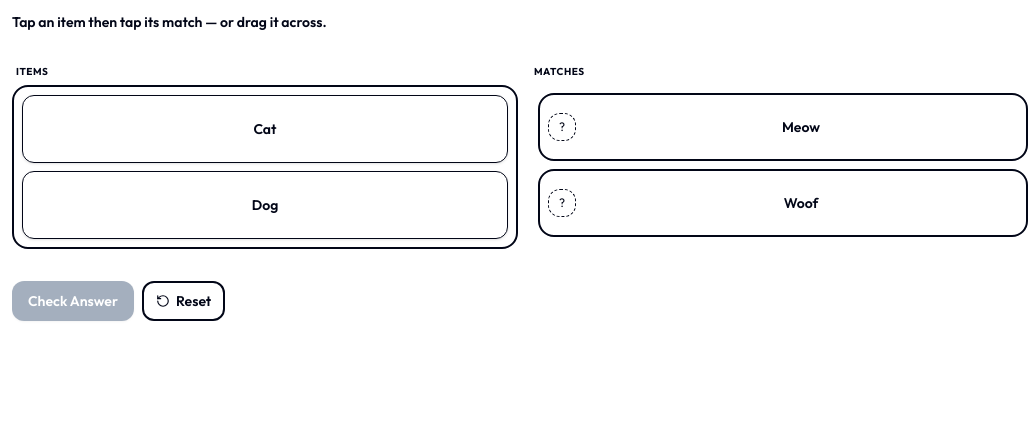
Scenario: MatchPairsViewer feedback › shows per-pair feedback under each match only after checking
expect the text "Cats meow." is not shown: met
Click the button "Cat" at (265, 129), box [22,95,508,163]
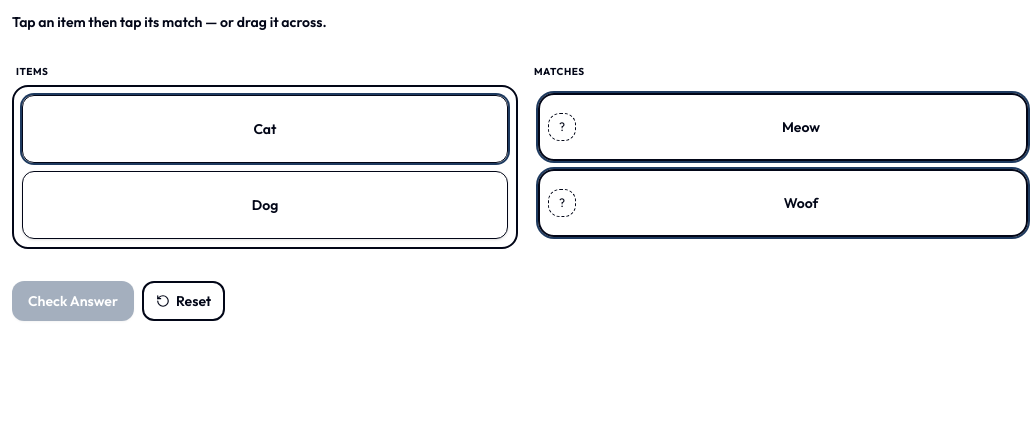
Click the text "Meow" at (801, 127), box [782,117,820,137]
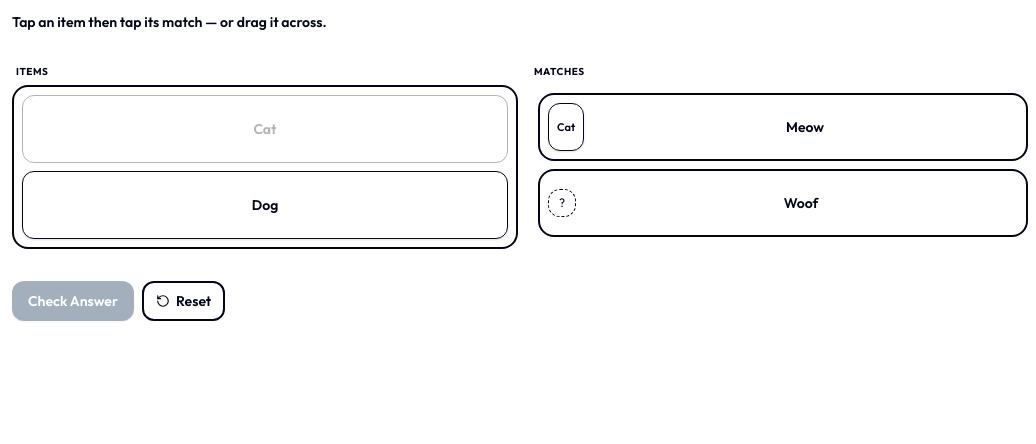
Click the button "Dog" at (265, 205), box [22,171,508,239]
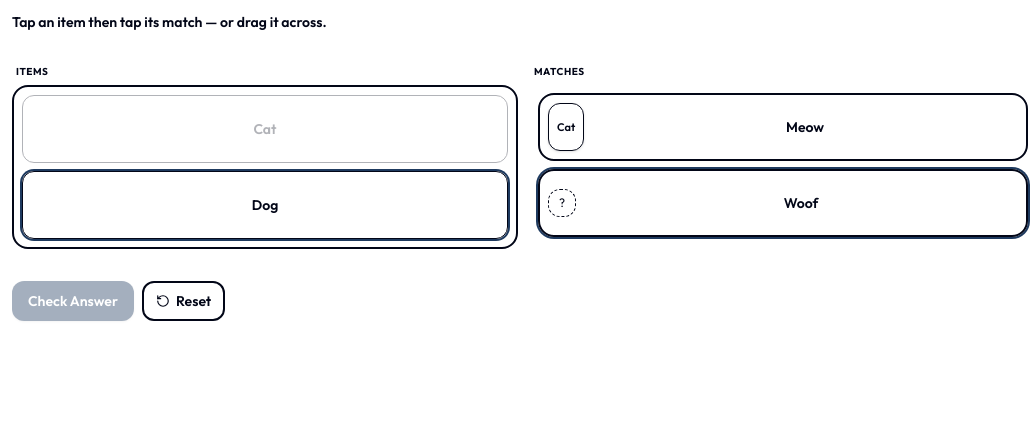
Click the text "Woof" at (801, 203), box [784,193,818,213]
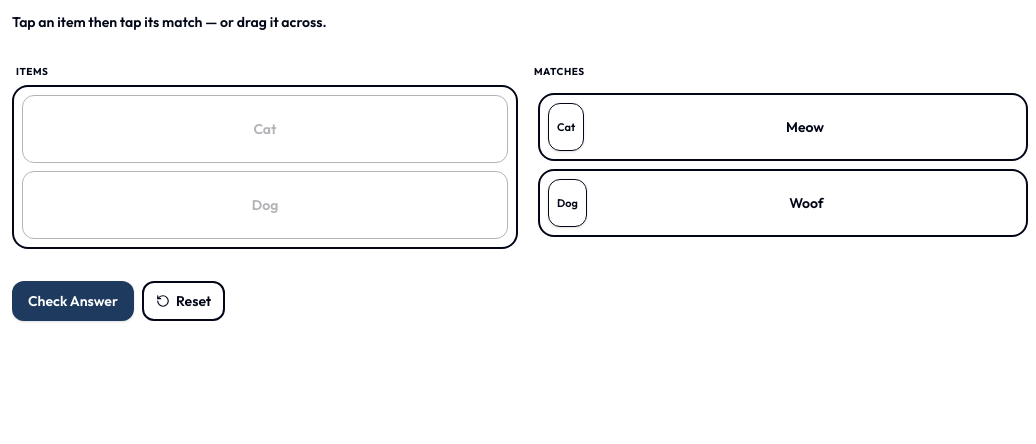
Click the button "Check Answer" at (73, 301), box [12,281,134,321]
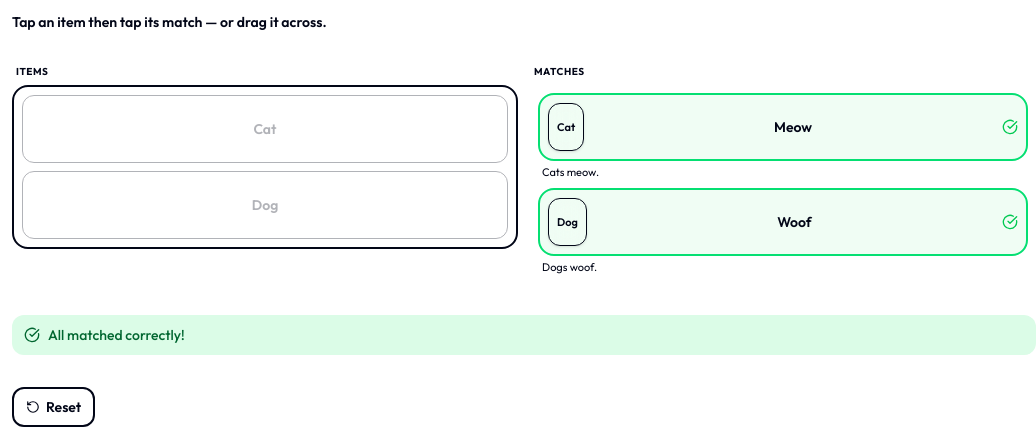
expect the text "Cats meow." is shown: met, box [542,165,599,179]
expect the text "Dogs woof." is shown: met, box [542,260,597,274]
